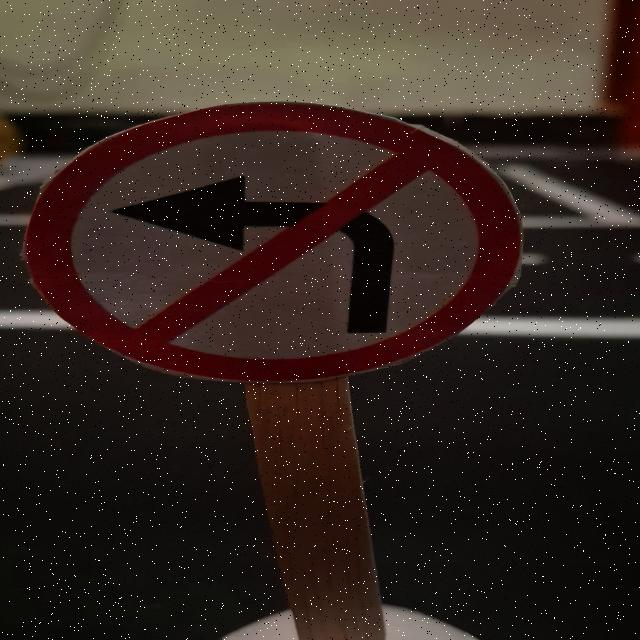Dilarang Belok Kiri: (26, 101, 522, 382)
